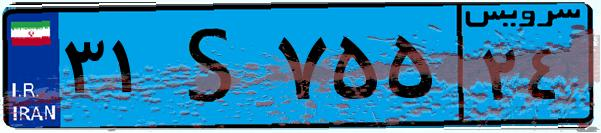1: (110, 28, 158, 98)
2: (475, 38, 525, 113)
3: (57, 26, 110, 100)
4: (525, 38, 570, 115)
5: (385, 28, 445, 110), (330, 28, 385, 110)
7: (270, 28, 330, 110)
S: (158, 12, 270, 120)
